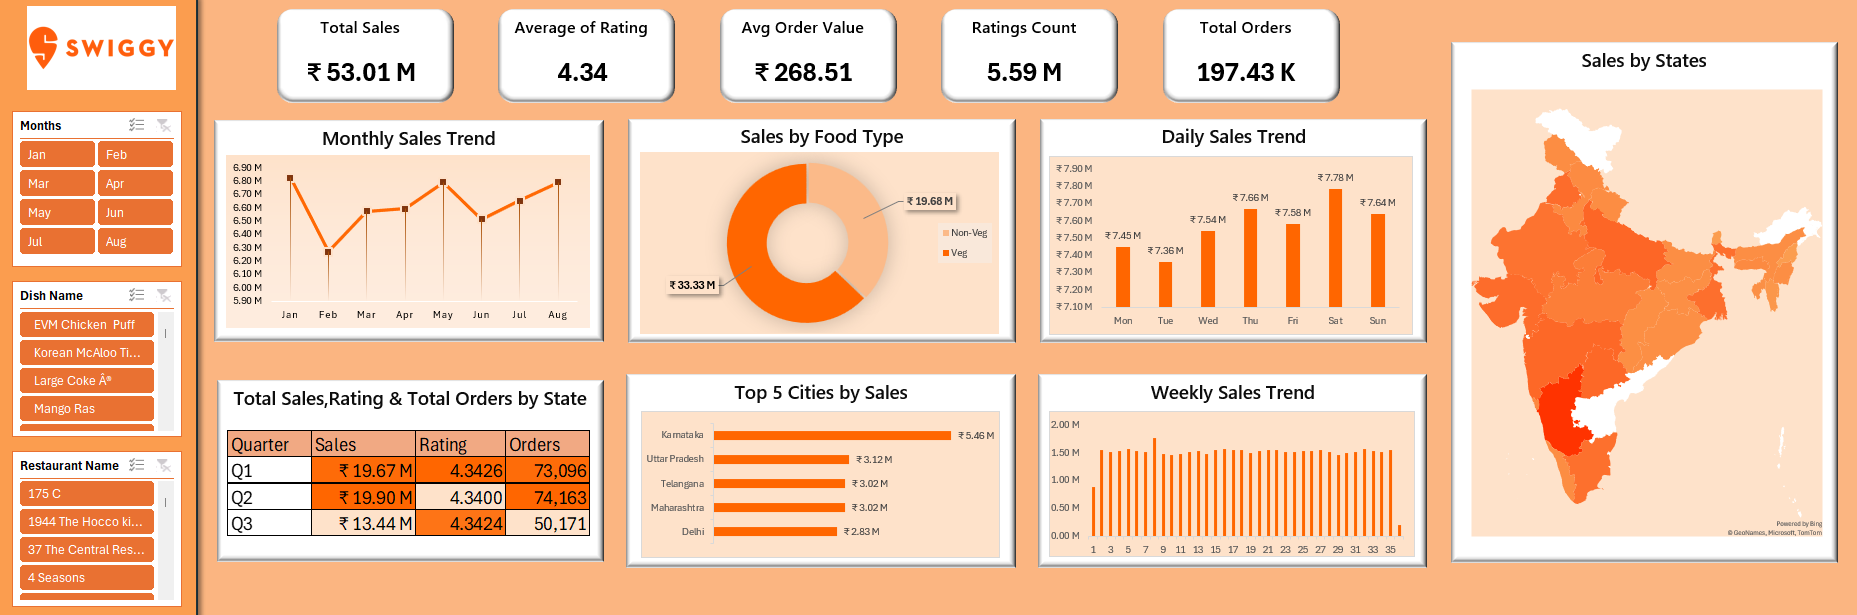

The page's visual inventory and layout, read from the dashboard file:
{"tool":"powerbi","page":{"name":"Page 1","canvas":[1280,720],"ordinal":0},"visuals":[{"type":"cardVisual","fields":{"Data":["Swiggy Data.Total Sales","Swiggy Data.Average Rating","Swiggy Data.Avg Order Value","Swiggy Data.Rating's Count","Swiggy Data.Total Orders"]},"box":[301.6,0,978.4,135.1],"z":0},{"type":"lineChart","title":"Monthly Sales Trend","fields":{"Category":["Swiggy Data.Order Date.Variation.Date Hierarchy.Month"],"Y":["Sum(Swiggy Data.Price (INR))"]},"box":[892.8,141.2,378.8,219.6],"z":2000},{"type":"donutChart","title":"Sales by Food Type","fields":{"Category":["Swiggy Data.Food Type"],"Y":["Sum(Swiggy Data.Price (INR))"]},"box":[639.4,141.2,237.7,219.6],"z":3000},{"type":"lineChart","title":"Daily Sales Trend","fields":{"Category":["Swiggy Data.Day Name"],"Y":["Sum(Swiggy Data.Price (INR))"]},"box":[322.1,141.2,300.4,218.4],"z":4000},{"type":"tableEx","title":"Total Sales , Rating & Total Orders","fields":{"Values":["Swiggy Data.Order Date.Variation.Date Hierarchy.Quarter","Swiggy Data.Total Sales","Swiggy Data.Average Rating","Swiggy Data.Dish Name"]},"box":[322.1,387.3,417.4,171.3],"z":5000},{"type":"clusteredBarChart","title":"Top 5 States Sales","fields":{"Category":["Swiggy Data.State"],"Y":["Swiggy Data.Total Sales"]},"box":[0,16.9,301.6,649.1],"z":6000},{"type":"clusteredColumnChart","title":"Weekly Sales Trend","fields":{"Category":["Swiggy Data.week_num"],"Y":["Swiggy Data.Total Sales"]},"box":[751.6,387.3,486.2,171.3],"z":7000},{"type":"slicer","fields":{"Values":["Swiggy Data.Order Date.Variation.Date Hierarchy.Month"]},"box":[600.8,582.7,212.3,71.2],"z":7001},{"type":"slicer","fields":{"Values":["Swiggy Data.Restaurant Name"]},"box":[363.1,582.7,218.4,71.2],"z":7002}]}

Visuals, with their boxes on the page's 1280x720 design canvas (x1, y1, x2, y2). These are canvas units, not pixel positions in the 1857x615 screenshot, which may show the page scaled, cropped or inside an application window:
cardVisual - Swiggy Data.Total Sales x Swiggy Data.Average Rating: 302, 0, 1280, 135
"Monthly Sales Trend" lineChart: 893, 141, 1272, 361
"Sales by Food Type" donutChart: 639, 141, 877, 361
"Daily Sales Trend" lineChart: 322, 141, 622, 360
"Total Sales , Rating & Total Orders" tableEx: 322, 387, 740, 559
"Top 5 States Sales" clusteredBarChart: 0, 17, 302, 666
"Weekly Sales Trend" clusteredColumnChart: 752, 387, 1238, 559
slicer - Swiggy Data.Order Date.Variation.Date Hierarchy.Month: 601, 583, 813, 654
slicer - Swiggy Data.Restaurant Name: 363, 583, 582, 654
